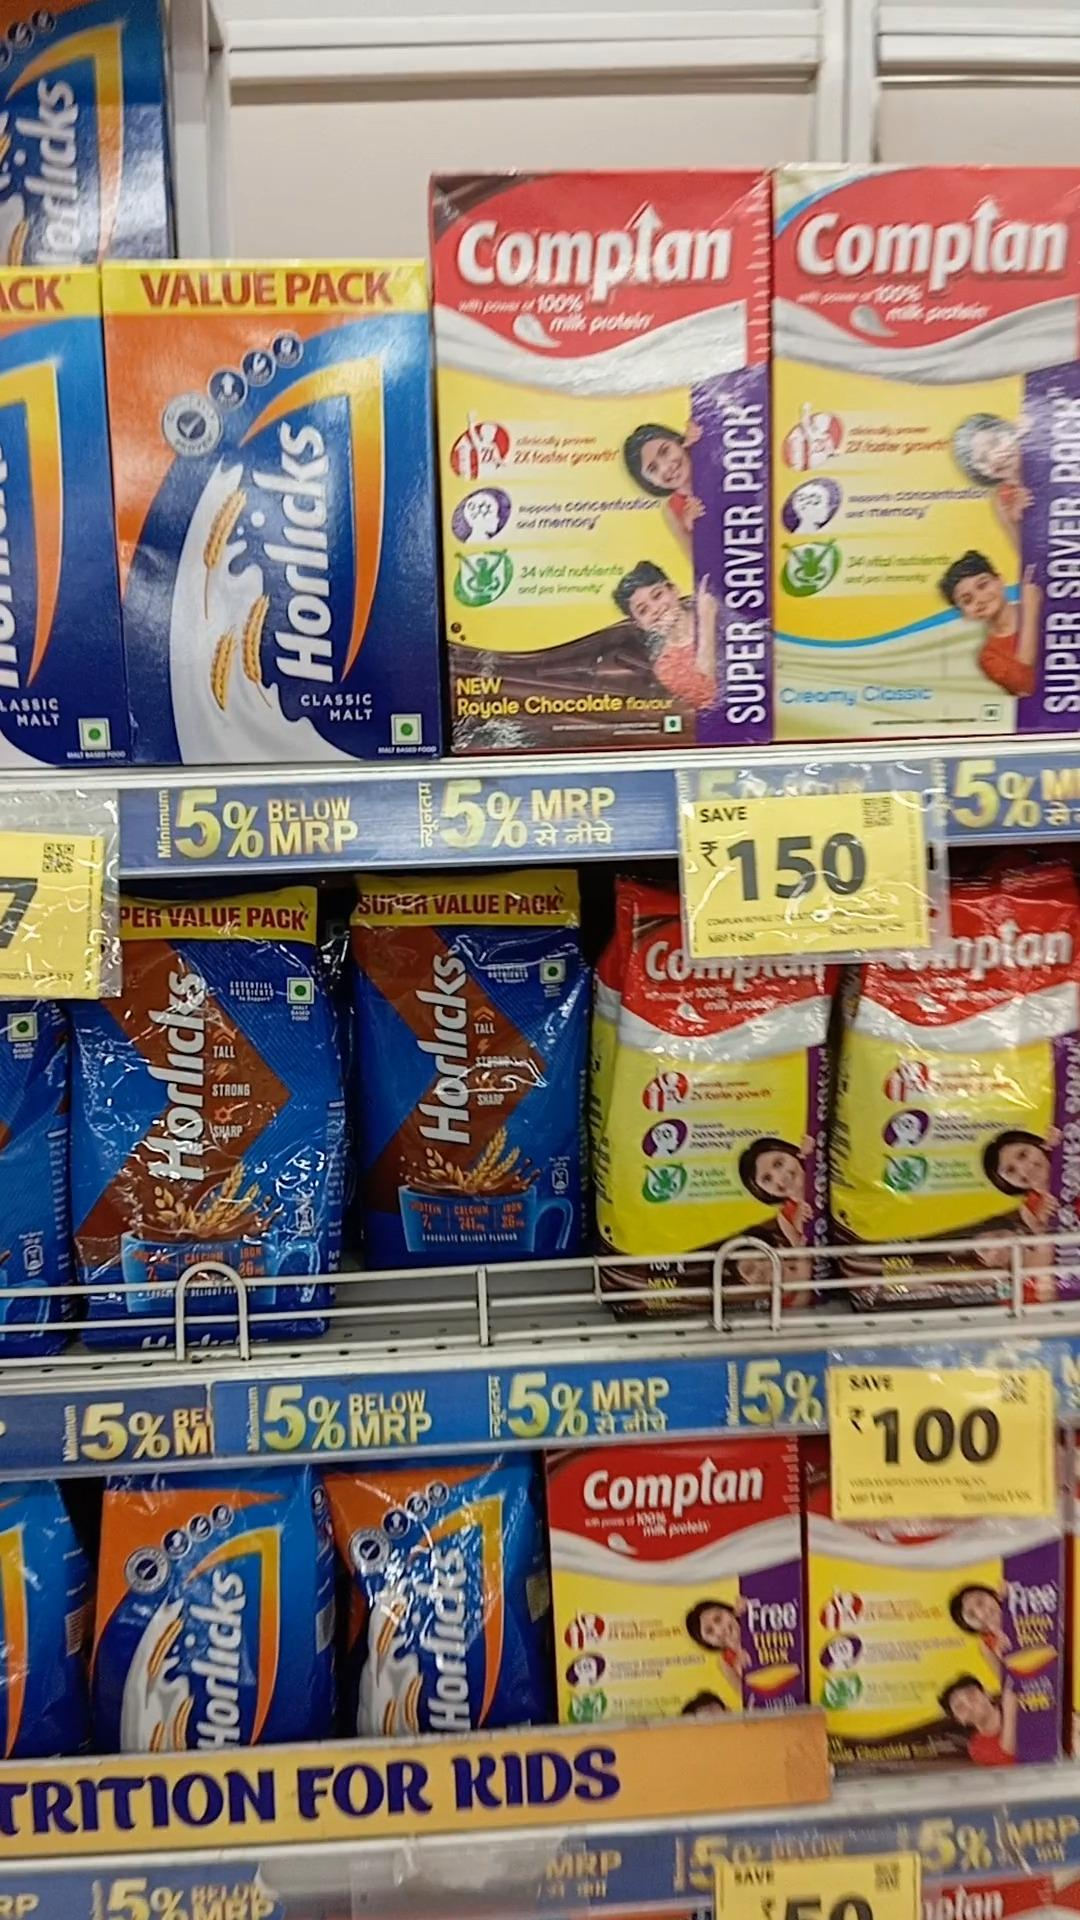COMPLAN_CHOCOLATE_1_KG_PACK: (435, 175, 762, 744)
COMPLAN_CHOCOLATE_500_GMS_PACK: (555, 1445, 807, 1737), (812, 1518, 1055, 1763)
COMPLAN_RC_POUCH_700_GMS_12: (845, 886, 1080, 1313), (620, 907, 824, 1325)
HORLICK_CHOCOLATE_750_G_POUCH: (92, 897, 331, 1346), (357, 870, 576, 1270)
HORLICK_CLASSIC_MALT_750_G_POUCH: (111, 1473, 299, 1759), (347, 1460, 527, 1741)
